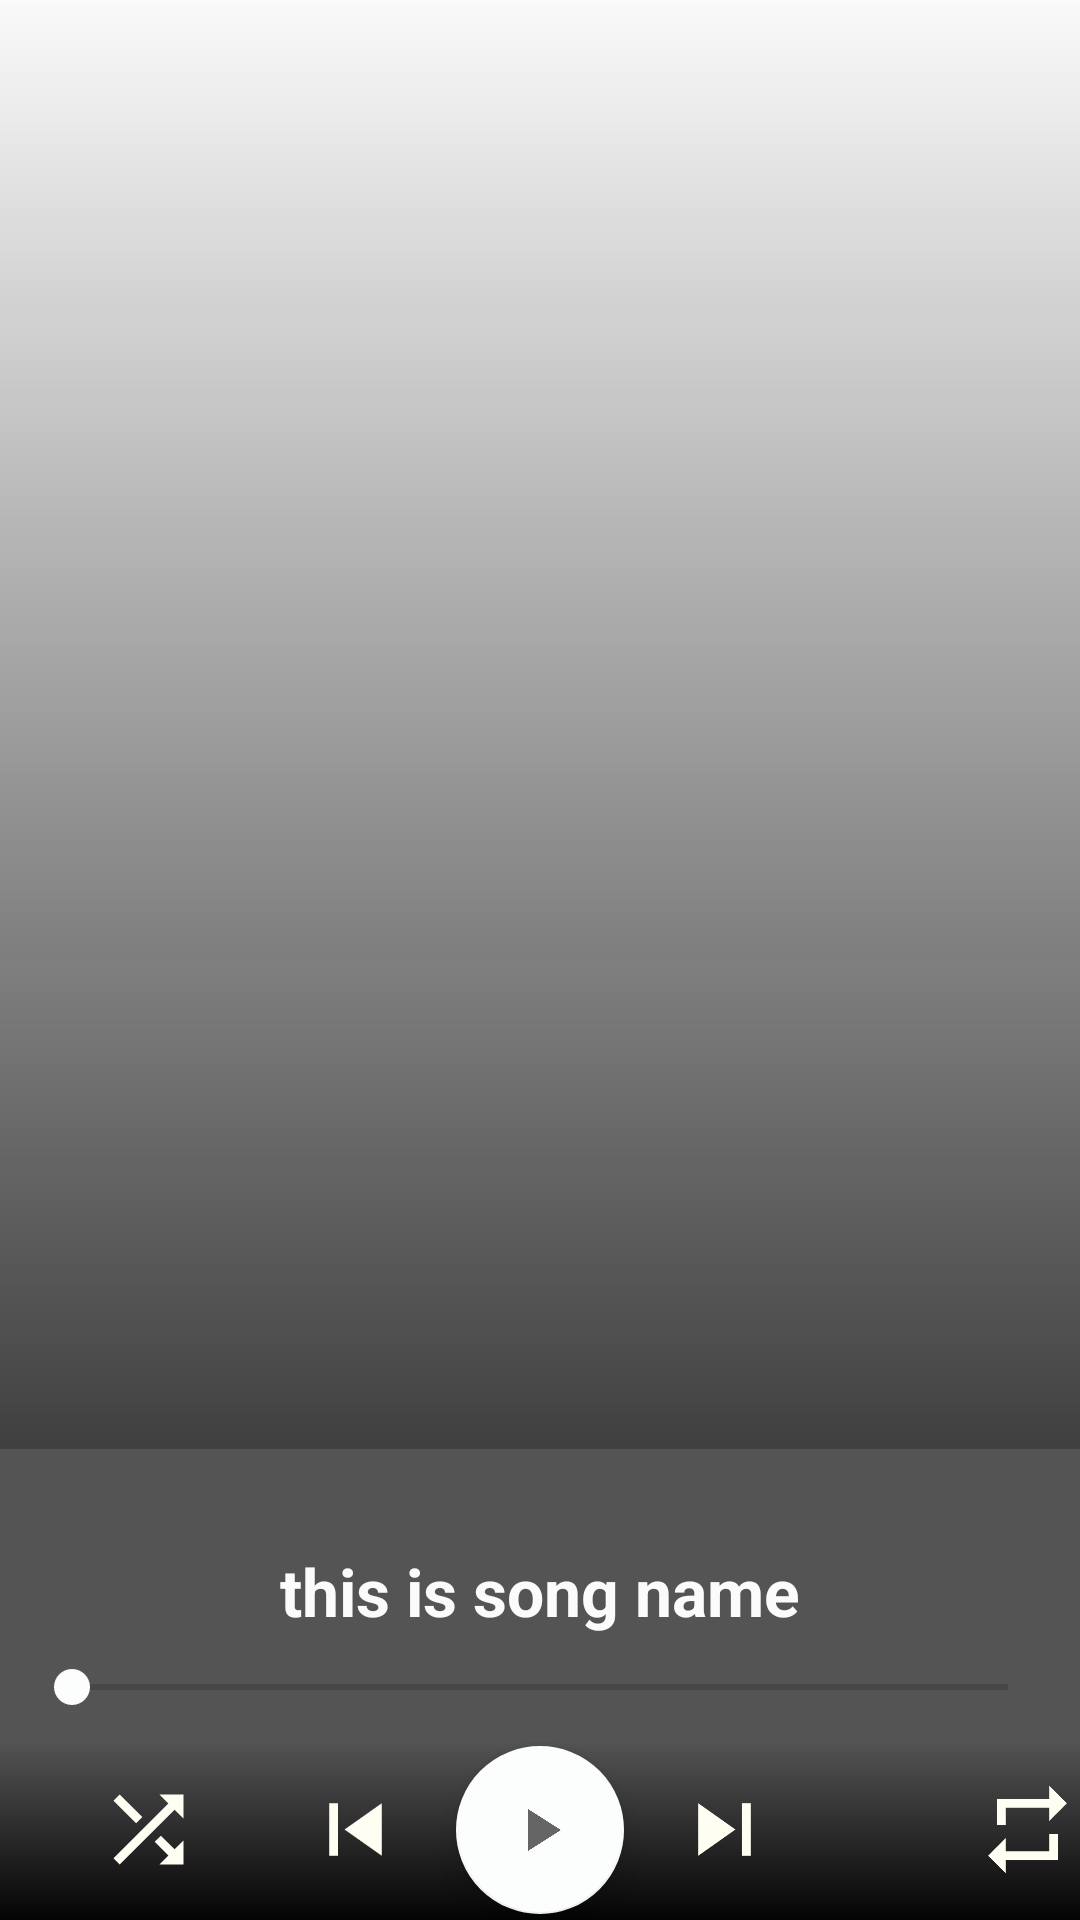

Icon click points for this 1080 × 1920 phone screenshot, format point (x, y):
play arrow: point (540, 1830)
repeat: point (1027, 1829)
shuffle: point (148, 1829)
skip next: point (724, 1829)
skip previous: point (355, 1829)
